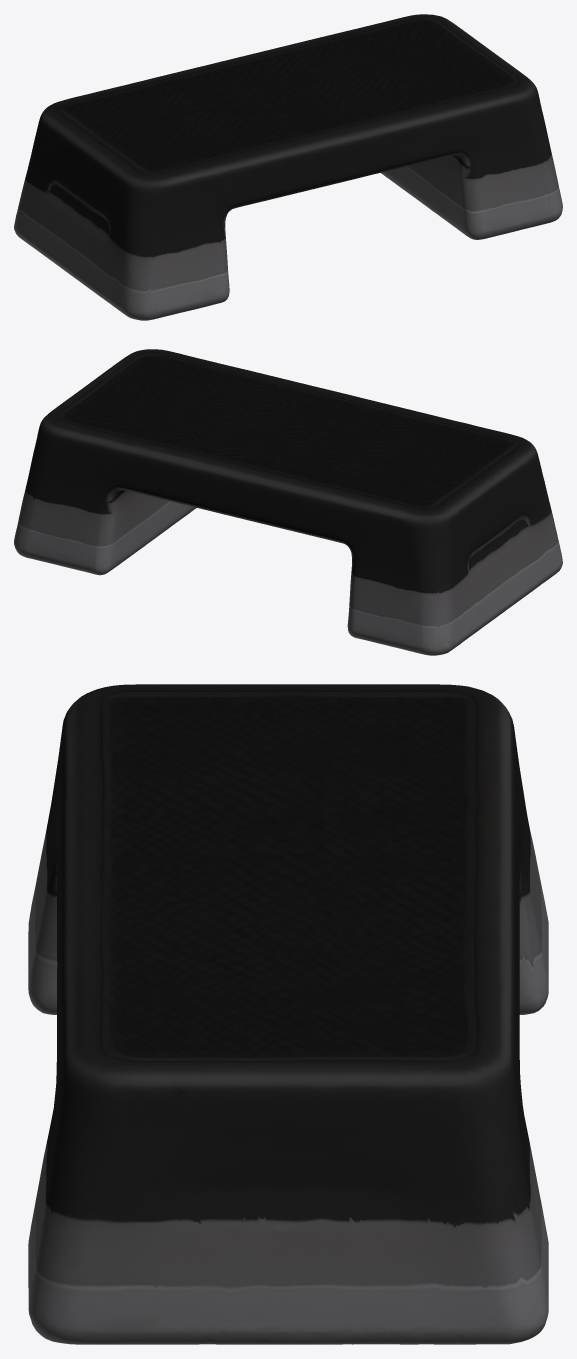
The model's file is step_platform_lod.glb.
3 renders of one model, top to bottom at view 1: azimuth 30°, elevation 25°; view 2: azimuth 150°, elevation 25°; view 3: azimuth 270°, elevation 25°, orthographic. The views are drawn at different scales.
Parts seen in each view (by area): view 1: world; view 2: world; view 3: world.
Part boxes in pixels (x1,y1,x2,y2): world: (14,14,562,320); world: (14,349,562,655); world: (28,684,548,1344).
Bounding box in the file's own units: 1 × 0.2873 × 0.5159.
1 material, 1 textured.
